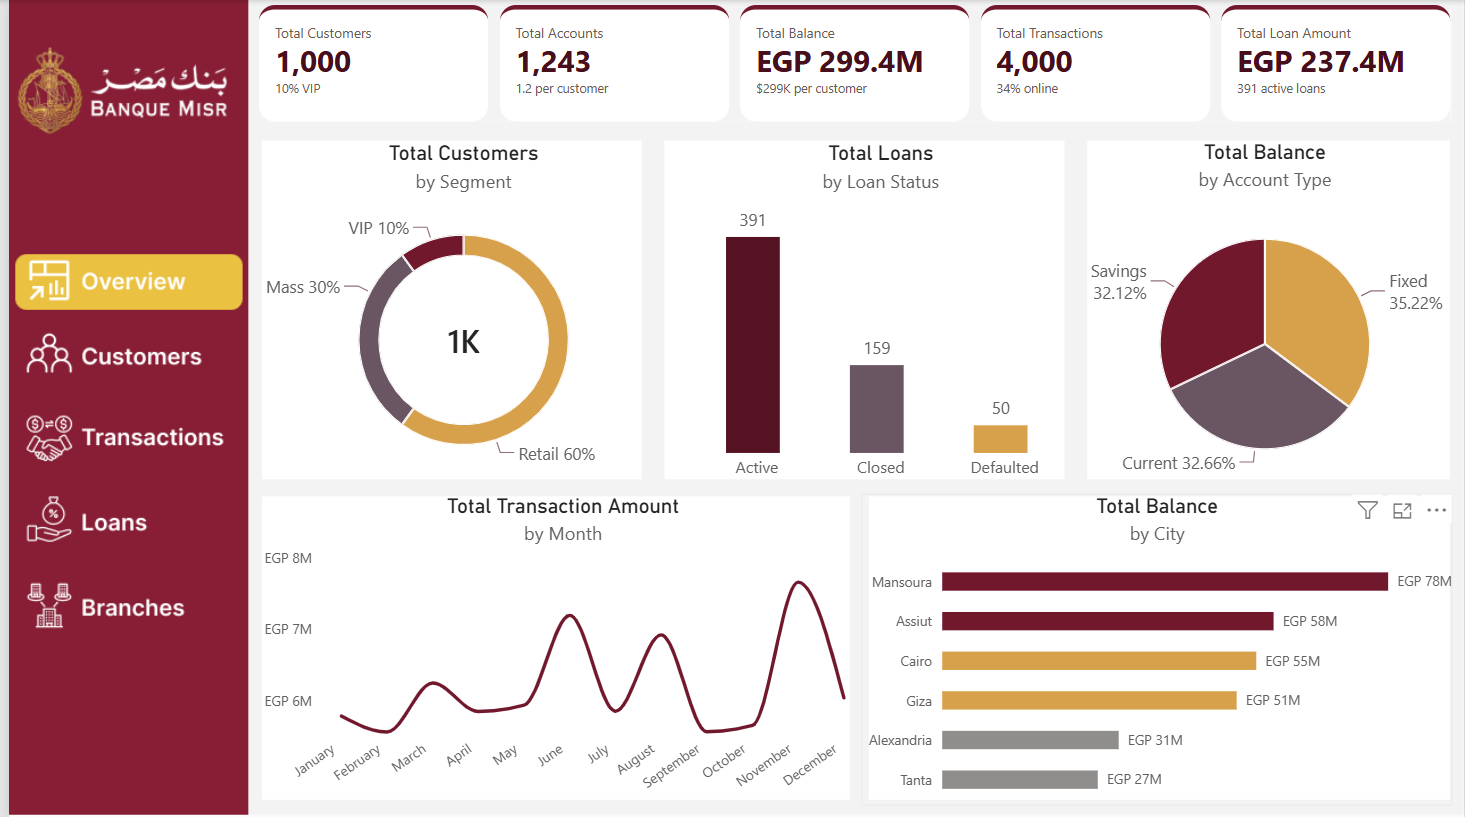

The dashboard page shown, as its layout file describes it:
{"tool":"powerbi","page":{"name":"Overview","canvas":[1280,720],"ordinal":1},"visuals":[{"type":"cardVisual","fields":{"Data":["Dax.Total Customers"]},"box":[216.8,9.6,157.8,105.7],"z":0},{"type":"cardVisual","fields":{"Data":["Dax.Total Accounts"]},"box":[397.9,9.6,157.8,105.7],"z":1000},{"type":"cardVisual","fields":{"Data":["Dax.Total Transactions"]},"box":[760.2,9.6,145.5,105.7],"z":3000},{"type":"cardVisual","fields":{"Data":["Dax.Total Loan Amount"]},"box":[934.5,9.6,157.8,105.7],"z":4000},{"type":"cardVisual","fields":{"Data":["Dax.Default Rate"]},"box":[1112.9,9.6,157.8,105.7],"z":5000},{"type":"actionButton","box":[0,285.7,206,52.4],"z":6000},{"type":"actionButton","box":[1.2,359.5,206,52.4],"z":7000},{"type":"actionButton","box":[2.4,432.1,206,52.4],"z":8000},{"type":"actionButton","box":[2.4,506,206,52.4],"z":9000},{"type":"htmlContent443BE3AD55E043BF878BED274D3A6855","fields":{"content":["HTML.HTML KPI Overview"]},"box":[220.2,4.8,1048.8,102.4],"z":10000},{"type":"donutChart","fields":{"Category":["DimCustomers.Segment"],"Y":["Dax.Total Customers"]},"box":[223.8,123.8,351.2,302.4],"z":11000},{"type":"columnChart","fields":{"Category":["FactLoans.Loan_Status"],"Y":["Dax.Total Loans"]},"box":[586.9,123.8,359.5,302.4],"z":12000},{"type":"pieChart","fields":{"Category":["FactAccounts.Account_Type"],"Y":["Dax.Total Balance"]},"box":[942.9,122.6,325,311.9],"z":13000},{"type":"lineChart","fields":{"Category":["DimDate.Month"],"Y":["Dax.Total Transaction Amount"]},"box":[223.8,434.5,526.2,277.4],"z":14000},{"type":"barChart","fields":{"Category":["DimBranches.City"],"Y":["Dax.Total Balance"]},"box":[750,434.5,520.2,275],"z":15000}]}

Visuals, with their boxes on the page's 1280x720 design canvas (x1, y1, x2, y2). These are canvas units, not pixel positions in the 1465x817 screenshot, which may show the page scaled, cropped or inside an application window:
cardVisual - Dax.Total Customers: bbox=(217, 10, 375, 115)
cardVisual - Dax.Total Accounts: bbox=(398, 10, 556, 115)
cardVisual - Dax.Total Transactions: bbox=(760, 10, 906, 115)
cardVisual - Dax.Total Loan Amount: bbox=(934, 10, 1092, 115)
cardVisual - Dax.Default Rate: bbox=(1113, 10, 1271, 115)
actionButton: bbox=(0, 286, 206, 338)
actionButton: bbox=(1, 360, 207, 412)
actionButton: bbox=(2, 432, 208, 484)
actionButton: bbox=(2, 506, 208, 558)
htmlContent443BE3AD55E043BF878BED274D3A6855 - HTML.HTML KPI Overview: bbox=(220, 5, 1269, 107)
donutChart - DimCustomers.Segment x Dax.Total Customers: bbox=(224, 124, 575, 426)
columnChart - FactLoans.Loan_Status x Dax.Total Loans: bbox=(587, 124, 946, 426)
pieChart - FactAccounts.Account_Type x Dax.Total Balance: bbox=(943, 123, 1268, 434)
lineChart - DimDate.Month x Dax.Total Transaction Amount: bbox=(224, 434, 750, 712)
barChart - DimBranches.City x Dax.Total Balance: bbox=(750, 434, 1270, 710)
